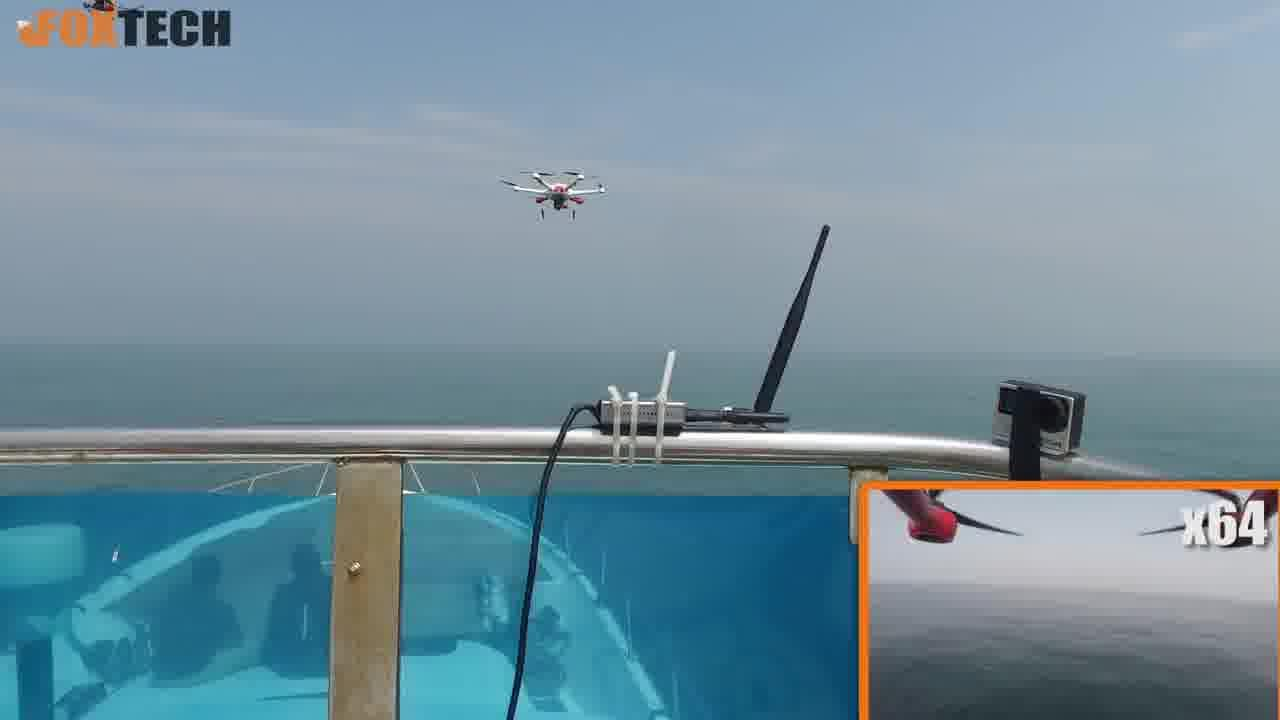drone: (485, 148, 609, 233)
